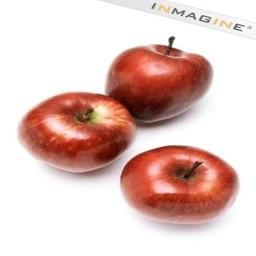apple: (16, 93, 136, 175), (117, 145, 238, 222), (105, 40, 211, 126)
